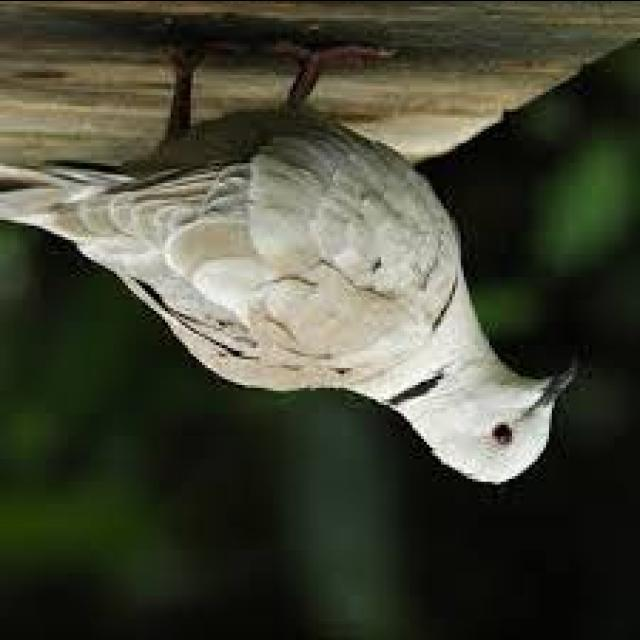pigeon: (13, 61, 575, 485)
